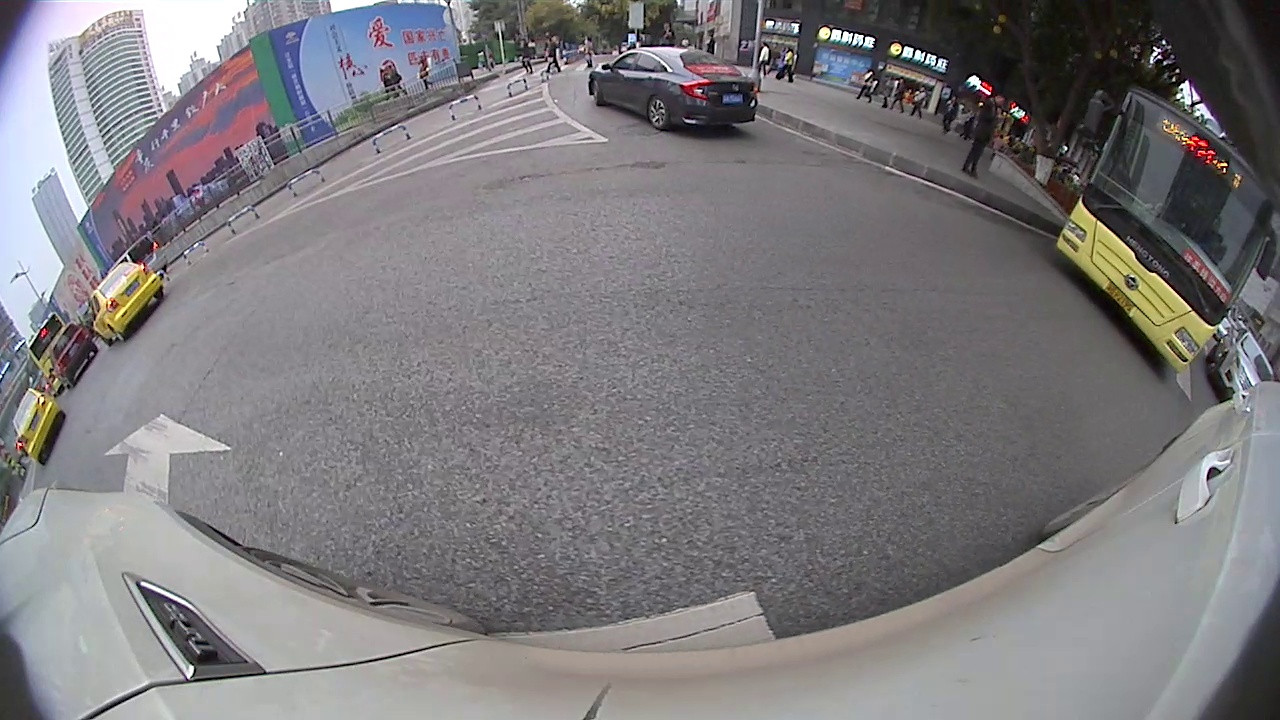bus: (1046, 77, 1277, 376)
car: (584, 43, 761, 136), (86, 256, 170, 347), (1205, 321, 1277, 403), (7, 387, 70, 466), (45, 315, 102, 385)
person: (974, 86, 1014, 172)
rear: (644, 97, 676, 133)
